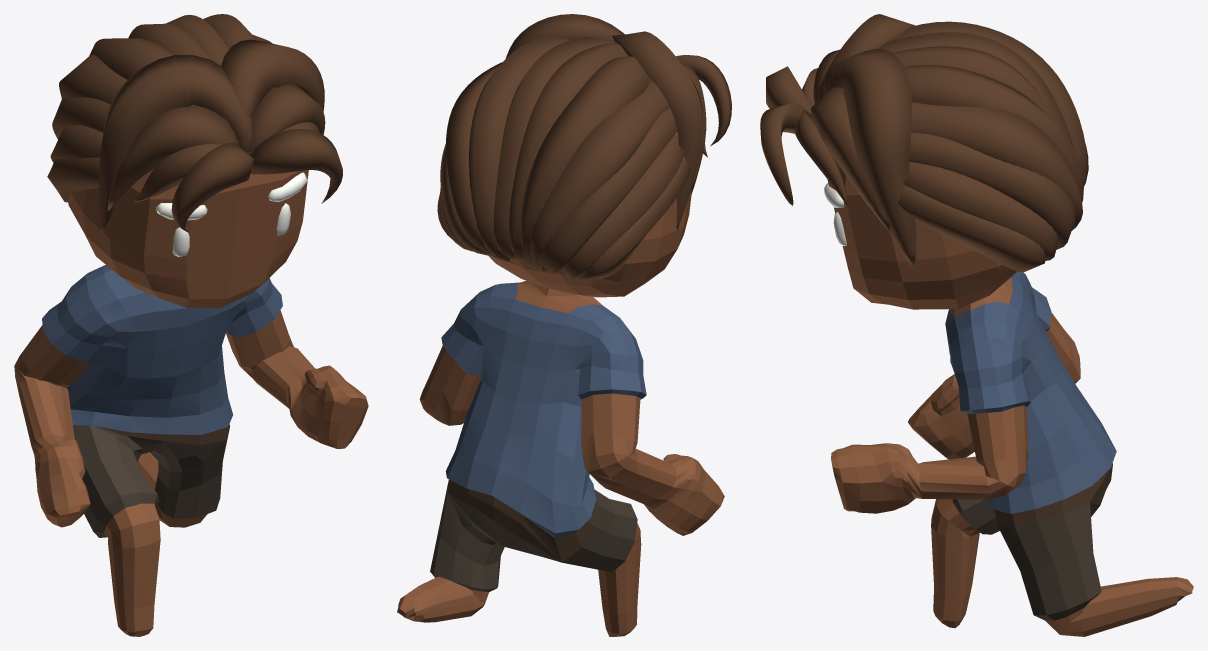
File: course-homme.glb
3 renders of one model, left to right at view 1: azimuth 30°, elevation 25°; view 2: azimuth 150°, elevation 25°; view 3: azimuth 270°, elevation 25°, orthographic. The views are drawn at different scales.
Visible parts, largest first — view 1: Cube004, Cube004_5, Cube004_1, Cube004_2, Cube004_4, Cube004_3; view 2: Cube004_5, Cube004_1, Cube004, Cube004_2, Cube004_3; view 3: Cube004_5, Cube004, Cube004_1, Cube004_2, Cube004_3.
Part boxes in pixels (left/top/right/bottom): Cube004: left=14, top=169, right=368, bottom=636; Cube004_5: left=47, top=14, right=342, bottom=233; Cube004_1: left=42, top=265, right=282, bottom=434; Cube004_2: left=73, top=425, right=229, bottom=537; Cube004_4: left=155, top=172, right=307, bottom=256; Cube004_3: left=73, top=424, right=229, bottom=445; Cube004_5: left=437, top=14, right=731, bottom=278; Cube004_1: left=441, top=282, right=646, bottom=537; Cube004: left=397, top=131, right=724, bottom=636; Cube004_2: left=430, top=486, right=637, bottom=591; Cube004_3: left=447, top=479, right=595, bottom=562; Cube004_5: left=760, top=14, right=1088, bottom=272; Cube004: left=827, top=163, right=1193, bottom=636; Cube004_1: left=945, top=271, right=1116, bottom=513; Cube004_2: left=952, top=481, right=1110, bottom=620; Cube004_3: left=993, top=463, right=1112, bottom=526.
Bounding box in the file's own units: 0.7492 × 1.53 × 0.9902.
